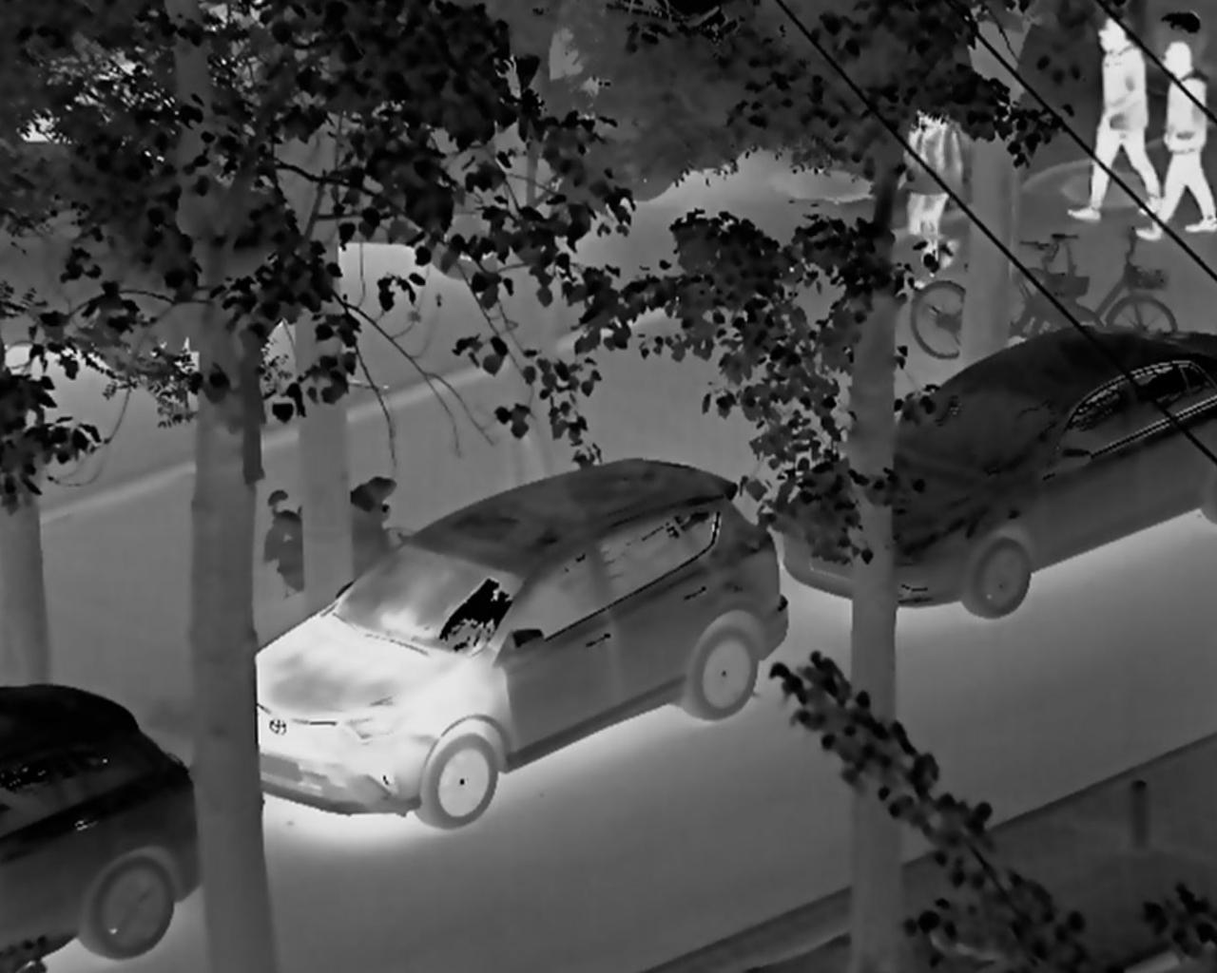person: (1071, 14, 1163, 251), (1130, 30, 1217, 251), (898, 87, 958, 277)
